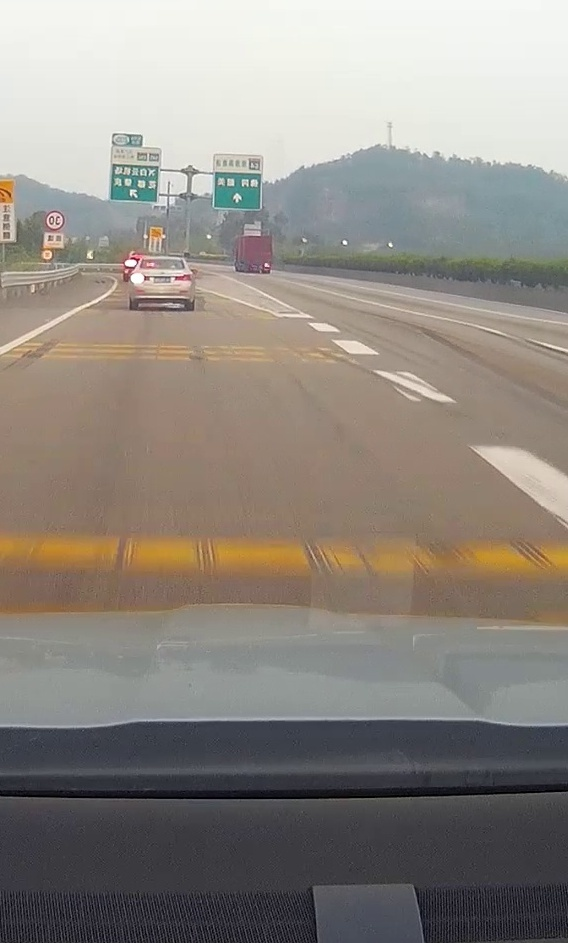L_light: (129, 273, 150, 281), (240, 263, 246, 267)
R_light: (174, 273, 192, 281), (264, 263, 270, 268)
T_light: (250, 236, 261, 238), (160, 258, 167, 260)
day-left: (129, 256, 194, 310)
day-right: (239, 235, 272, 274)
